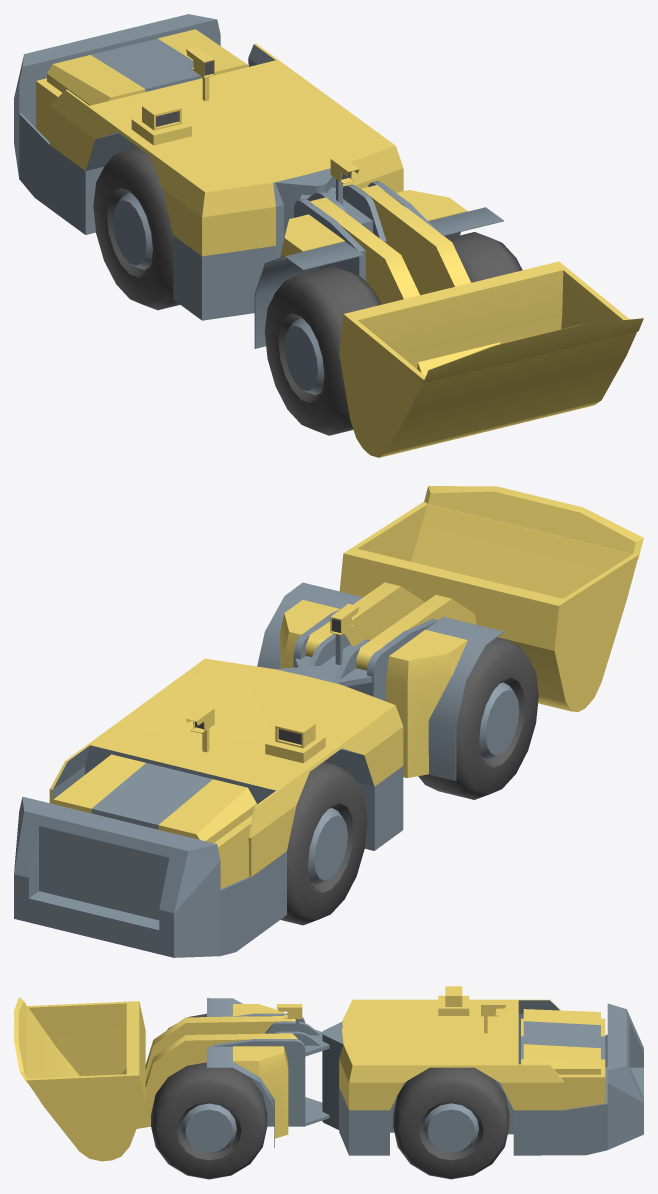
The model's file is Scooptram_ST18_driverless_1400_v.fbx.
3 renders of one model, top to bottom at view 1: azimuth 30°, elevation 25°; view 2: azimuth 150°, elevation 25°; view 3: azimuth 270°, elevation 25°, orthographic. The views are drawn at different scales.
Visible parts, largest first — view 1: Scooptram_ST18_driverless; view 2: Scooptram_ST18_driverless; view 3: Scooptram_ST18_driverless.
Part boxes in pixels (box(x1,y1,x2,y2)): Scooptram_ST18_driverless: box(14, 14, 643, 457); Scooptram_ST18_driverless: box(14, 486, 643, 957); Scooptram_ST18_driverless: box(14, 986, 643, 1179).
Bounding box in the file's own units: 311 × 285 × 1113.
